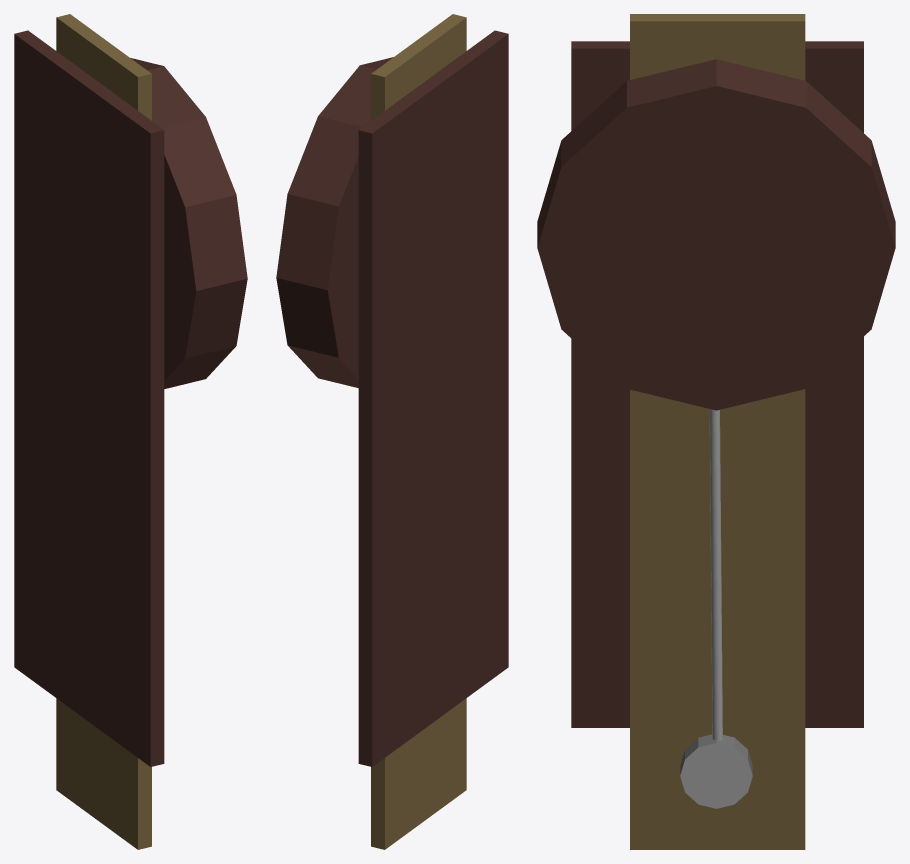
Rendered from clock(1).fbx.
The picture shows the model from 3 angles, left to right: view 1: azimuth 30°, elevation 25°; view 2: azimuth 150°, elevation 25°; view 3: azimuth 270°, elevation 25°; orthographic projection. The views are drawn at different scales.
Visible parts, largest first — view 1: 立方体.001, Cylinder.001, 立方体; view 2: 立方体.001, Cylinder.001, 立方体; view 3: Cylinder.001, 立方体, 立方体.001, Cylinder, 柱体.001.
Boxes of the visible parts, bbox=[...] form: 立方体.001: bbox=[14, 30, 164, 766]; Cylinder.001: bbox=[130, 58, 247, 388]; 立方体: bbox=[56, 14, 151, 849]; 立方体.001: bbox=[358, 30, 508, 766]; Cylinder.001: bbox=[276, 57, 393, 387]; 立方体: bbox=[371, 14, 466, 849]; Cylinder.001: bbox=[537, 59, 895, 410]; 立方体: bbox=[630, 14, 805, 849]; 立方体.001: bbox=[571, 41, 863, 727]; Cylinder: bbox=[680, 734, 752, 808]; 柱体.001: bbox=[709, 409, 722, 740].
Bounding box in the file's own units: 60.98 × 554 × 217.
